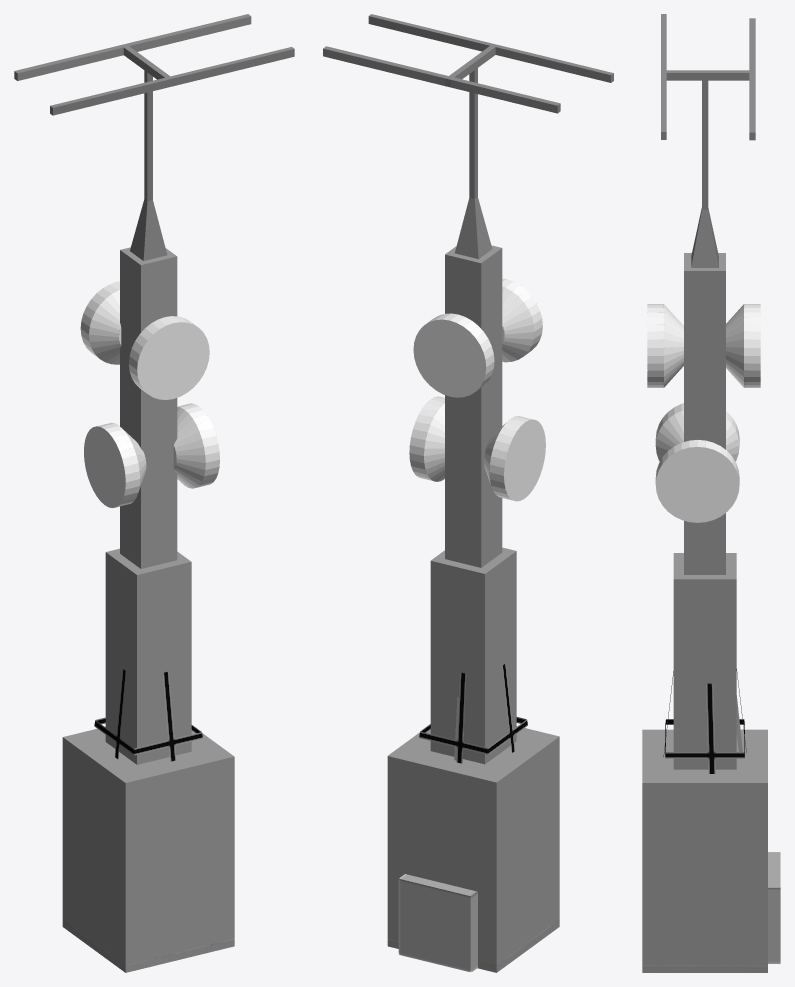
Rendered from RadioTower.obj.
The picture shows the model from 3 angles, left to right: view 1: azimuth 30°, elevation 25°; view 2: azimuth 150°, elevation 25°; view 3: azimuth 270°, elevation 25°; orthographic projection.
Parts seen in each view (by area): view 1: Minecraft_Block.051_Cube.052, Minecraft_Block.000_Cube.061, Minecraft_Block.001_Cube.062, Cube_Cube.001, Cylinder.002_Cylinder.003, Cylinder.003_Cylinder.004, Cylinder.004_Cylinder.005, Cylinder.001_Cylinder.002; view 2: Minecraft_Block.051_Cube.052, Minecraft_Block.000_Cube.061, Minecraft_Block.001_Cube.062, Cube_Cube.001, Cube.001_Cube.063, Cylinder.001_Cylinder.002, Cylinder.003_Cylinder.004, Cylinder.002_Cylinder.003, Cylinder.004_Cylinder.005; view 3: Minecraft_Block.051_Cube.052, Minecraft_Block.000_Cube.061, Minecraft_Block.001_Cube.062, Cube_Cube.001, Cylinder.004_Cylinder.005, Cylinder.002_Cylinder.003, Cylinder.001_Cylinder.002, Cylinder.003_Cylinder.004, Cube.001_Cube.063.
Boxes of the visible parts, x1,y1,x2,y2 form: Minecraft_Block.051_Cube.052: (62, 726, 234, 972); Minecraft_Block.000_Cube.061: (105, 548, 191, 764); Minecraft_Block.001_Cube.062: (120, 247, 177, 568); Cube_Cube.001: (14, 14, 294, 972); Cylinder.002_Cylinder.003: (129, 316, 209, 399); Cylinder.003_Cylinder.004: (84, 422, 146, 507); Cylinder.004_Cylinder.005: (173, 403, 219, 488); Cylinder.001_Cylinder.002: (80, 281, 121, 364); Minecraft_Block.051_Cube.052: (387, 726, 559, 972); Minecraft_Block.000_Cube.061: (430, 547, 516, 764); Minecraft_Block.001_Cube.062: (445, 245, 502, 567); Cube_Cube.001: (323, 14, 613, 971); Cube.001_Cube.063: (398, 874, 477, 972); Cylinder.001_Cylinder.002: (413, 313, 494, 397); Cylinder.003_Cylinder.004: (484, 416, 545, 501); Cylinder.002_Cylinder.003: (502, 278, 542, 362); Cylinder.004_Cylinder.005: (409, 396, 444, 481); Minecraft_Block.051_Cube.052: (642, 729, 767, 972); Minecraft_Block.000_Cube.061: (673, 553, 736, 769); Minecraft_Block.001_Cube.062: (684, 253, 725, 574); Cube_Cube.001: (642, 14, 767, 972); Cylinder.004_Cylinder.005: (655, 439, 739, 522); Cylinder.002_Cylinder.003: (647, 304, 683, 387); Cylinder.001_Cylinder.002: (726, 304, 760, 387); Cylinder.003_Cylinder.004: (655, 403, 739, 461); Cube.001_Cube.063: (768, 852, 780, 963).
Size of the model in its own units: 6.69 by 23.01 by 3.31.
5 materials, 3 textured.
